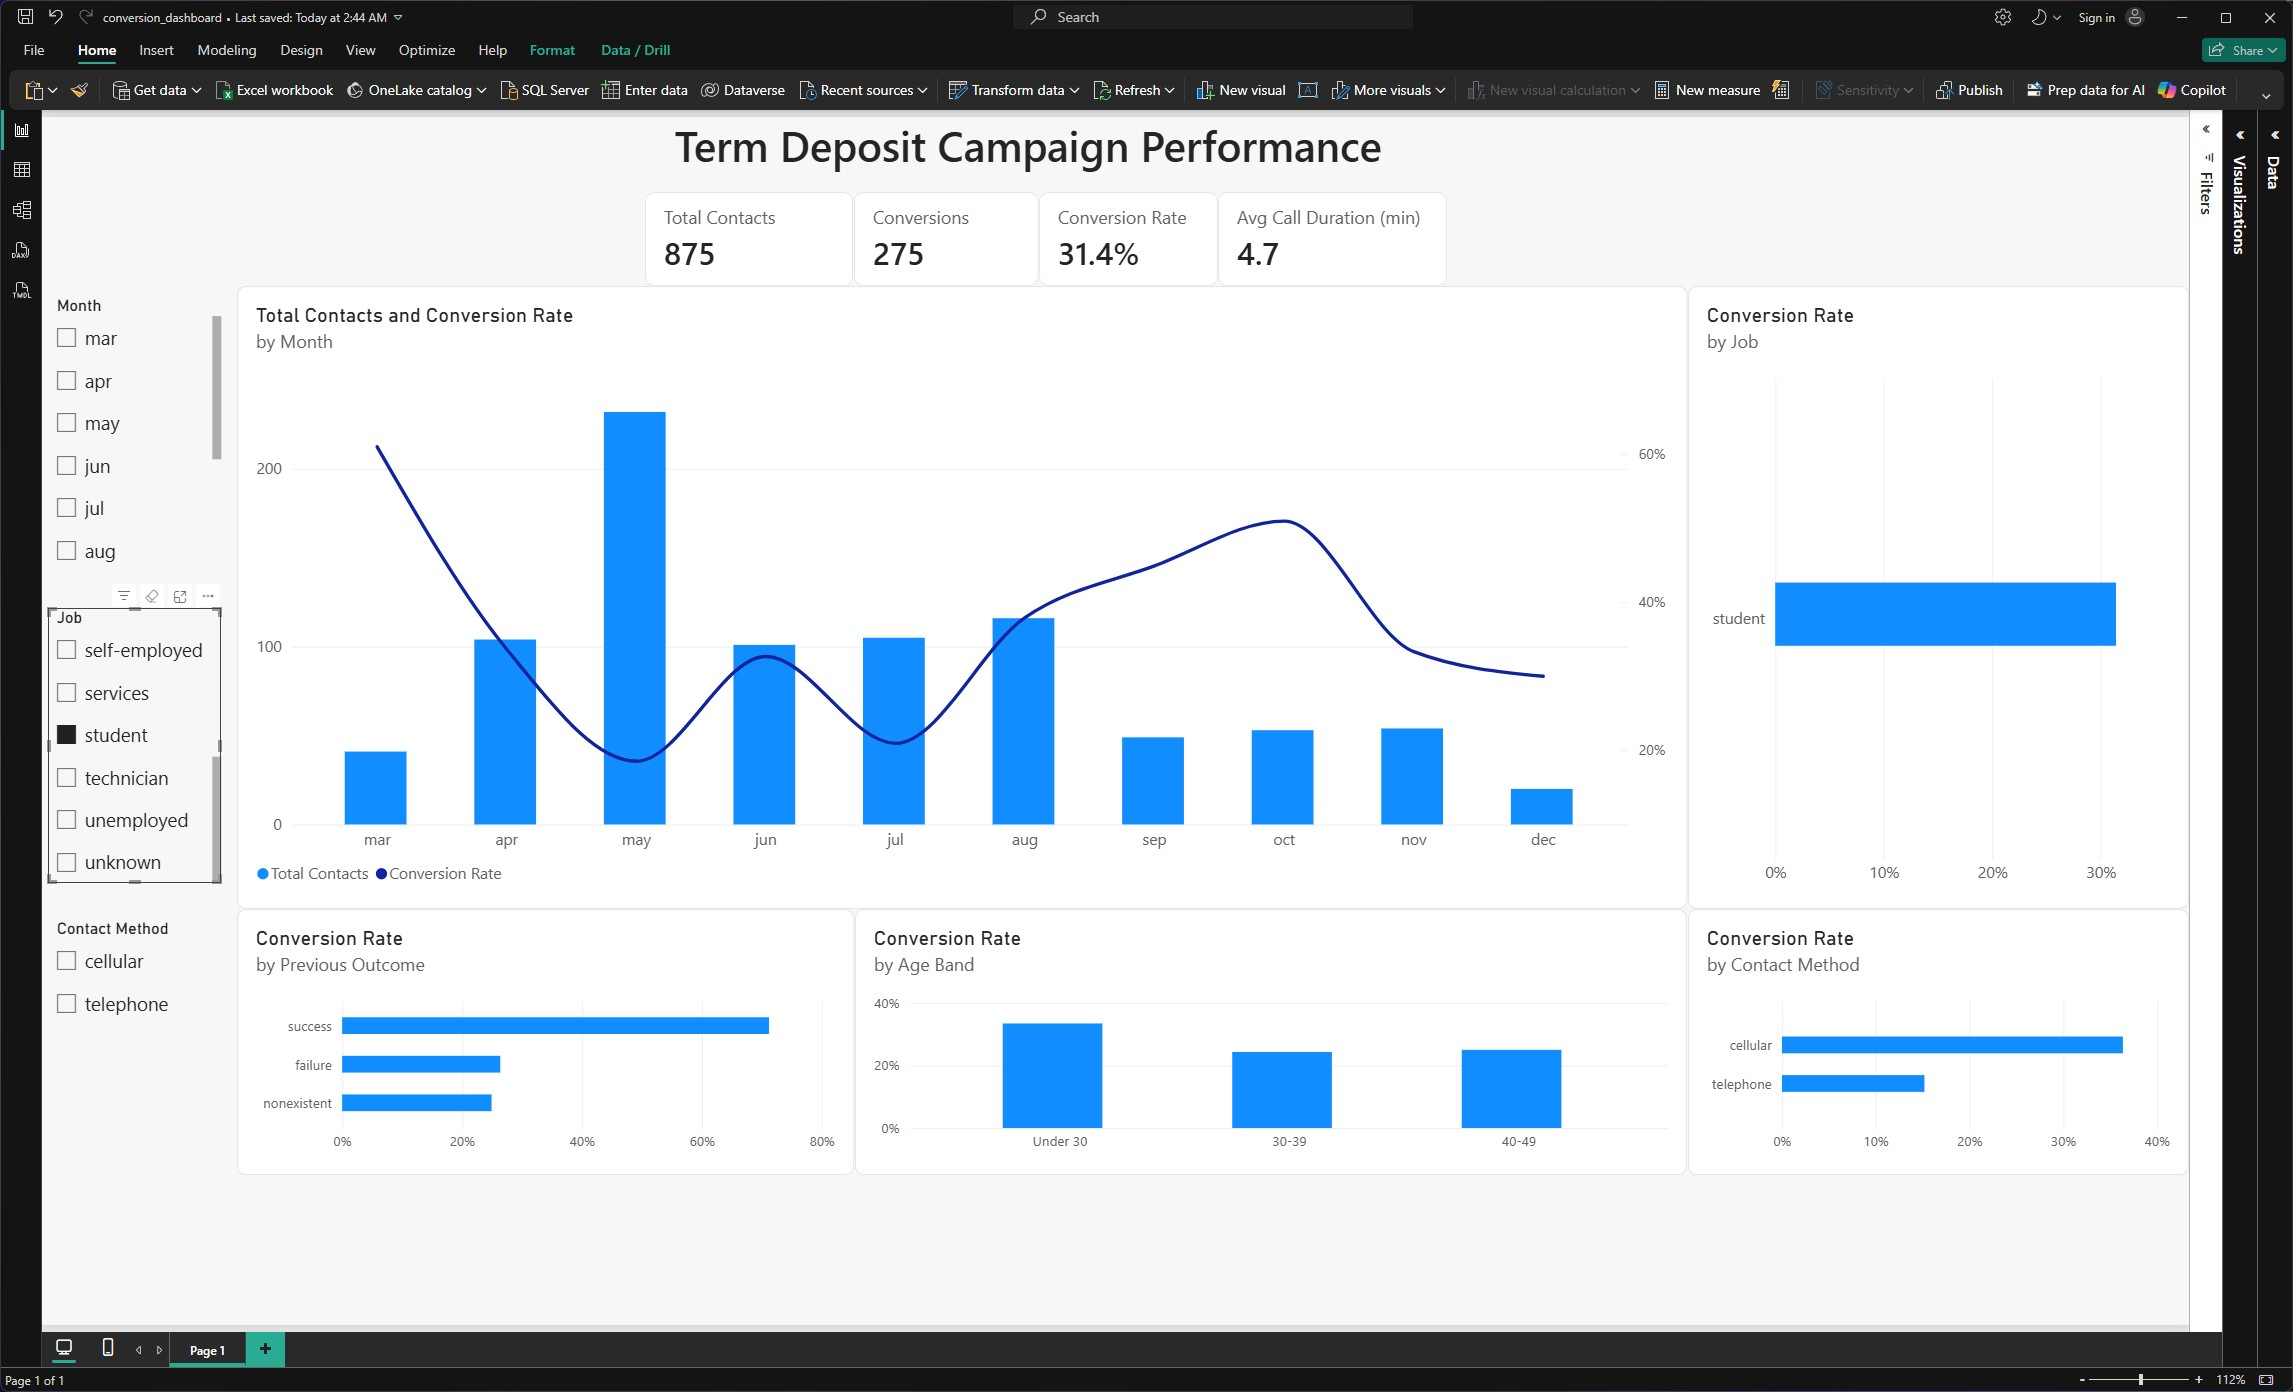

This screenshot's page, from the dashboard's own definition file:
{"tool":"powerbi","page":{"name":"Page 1","canvas":[1920,1080],"ordinal":0},"visuals":[{"type":"cardVisual","fields":{"Data":["Campaign.Avg Call Duration (min)"]},"box":[1051.6,67.1,206,84.2],"z":0},{"type":"cardVisual","fields":{"Data":["Campaign.Conversion Rate"]},"box":[891.1,67.1,160.5,84.2],"z":1000},{"type":"cardVisual","fields":{"Data":["Campaign.Conversions"]},"box":[726.1,67.1,165,84.2],"z":2000},{"type":"cardVisual","fields":{"Data":["Campaign.Total Contacts"]},"box":[539.5,67.1,186.7,84.2],"z":3000},{"type":"lineStackedColumnComboChart","fields":{"Category":["Campaign.Month"],"Y":["Campaign.Total Contacts"],"Y2":["Campaign.Conversion Rate"]},"box":[174.1,151.4,1297.5,556.5],"z":4000},{"type":"clusteredBarChart","fields":{"Category":["Campaign.Job"],"Y":["Campaign.Conversion Rate"]},"box":[1471.6,151.4,448.4,556.5],"z":5000},{"type":"clusteredColumnChart","fields":{"Category":["Campaign.Age Band"],"Y":["Campaign.Conversion Rate"]},"box":[727.3,707.9,744.3,237.9],"z":6000},{"type":"clusteredBarChart","fields":{"Category":["Campaign.Previous Outcome"],"Y":["Campaign.Conversion Rate"]},"box":[174.1,707.9,552,237.9],"z":7000},{"type":"slicer","fields":{"Values":["Campaign.Month"]},"box":[5.7,160.5,154.8,239],"z":8000},{"type":"slicer","fields":{"Values":["Campaign.Job"]},"box":[5.7,439.3,154.8,245.8],"z":9000},{"type":"slicer","fields":{"Values":["Campaign.Contact Method"]},"box":[5.7,717,154.8,94.5],"z":10000},{"type":"textbox","box":[292.5,0,1179.1,67.1],"z":10001},{"type":"clusteredBarChart","fields":{"Category":["Campaign.Contact Method"],"Y":["Campaign.Conversion Rate"]},"box":[1471.6,707.9,448.4,237.9],"z":10002}]}

Visuals, with their boxes on the page's 1920x1080 design canvas (x1, y1, x2, y2). These are canvas units, not pixel positions in the 2293x1392 screenshot, which may show the page scaled, cropped or inside an application window:
cardVisual - Campaign.Avg Call Duration (min): [1052,67,1258,151]
cardVisual - Campaign.Conversion Rate: [891,67,1052,151]
cardVisual - Campaign.Conversions: [726,67,891,151]
cardVisual - Campaign.Total Contacts: [540,67,726,151]
lineStackedColumnComboChart - Campaign.Month x Campaign.Total Contacts: [174,151,1472,708]
clusteredBarChart - Campaign.Job x Campaign.Conversion Rate: [1472,151,1920,708]
clusteredColumnChart - Campaign.Age Band x Campaign.Conversion Rate: [727,708,1472,946]
clusteredBarChart - Campaign.Previous Outcome x Campaign.Conversion Rate: [174,708,726,946]
slicer - Campaign.Month: [6,160,160,400]
slicer - Campaign.Job: [6,439,160,685]
slicer - Campaign.Contact Method: [6,717,160,812]
textbox: [292,0,1472,67]
clusteredBarChart - Campaign.Contact Method x Campaign.Conversion Rate: [1472,708,1920,946]
